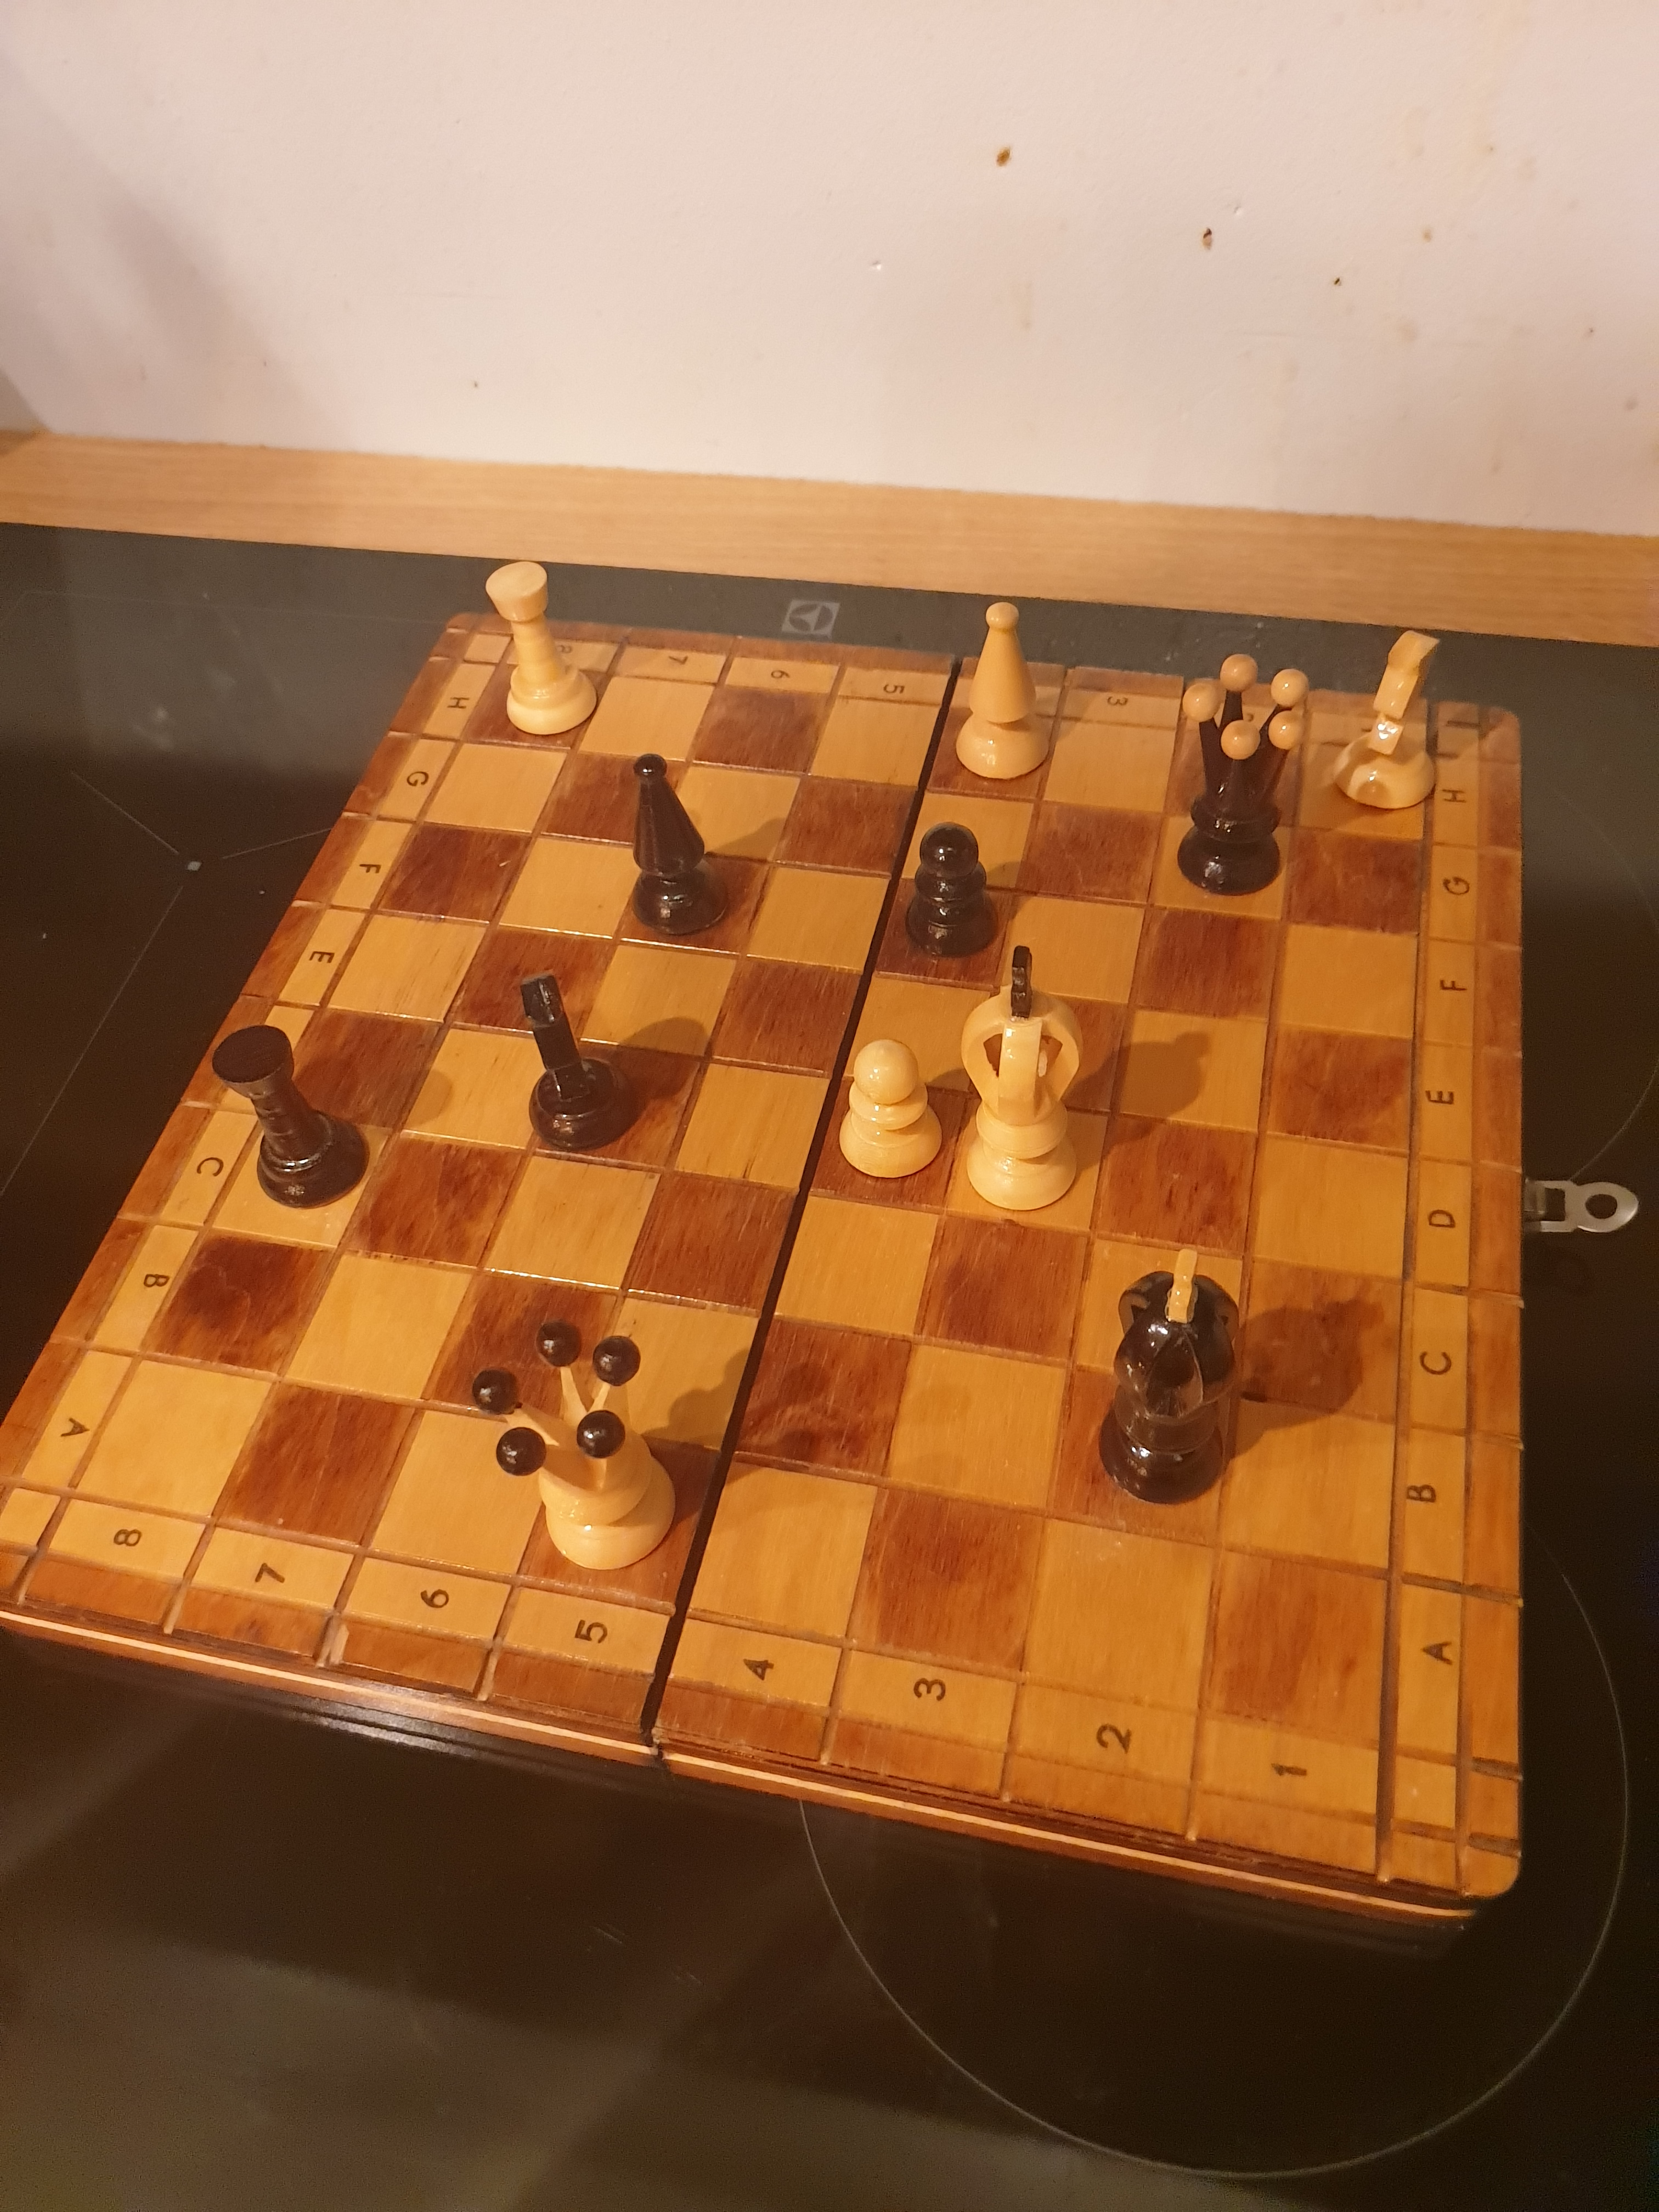bbishop: (615, 744, 732, 958)
bking: (1087, 1224, 1258, 1521)
bknight: (511, 958, 647, 1167)
bpawn: (892, 806, 1019, 974)
bqueen: (1166, 639, 1323, 911)
brook: (200, 1014, 376, 1221)
wbishop: (938, 578, 1061, 799)
wking: (950, 934, 1103, 1244)
wknight: (1321, 618, 1460, 826)
wpawn: (824, 1021, 960, 1191)
wqueen: (458, 1296, 699, 1581)
wrook: (481, 538, 610, 752)
